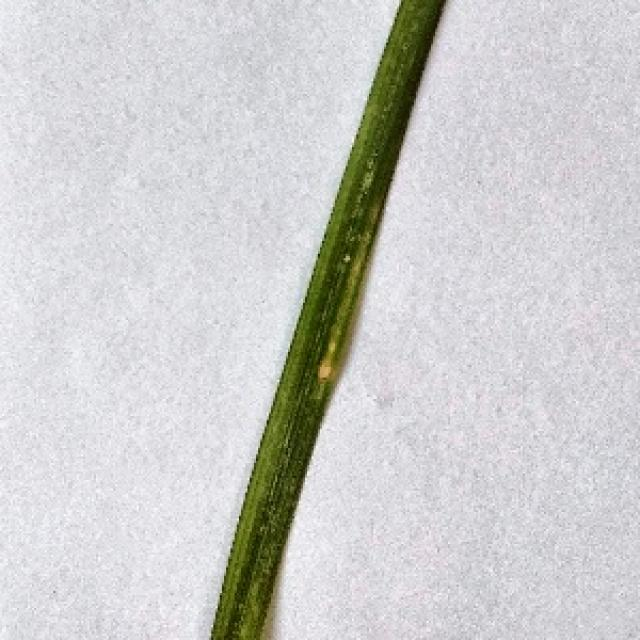Leaf_Blast: (273, 130, 397, 403)
